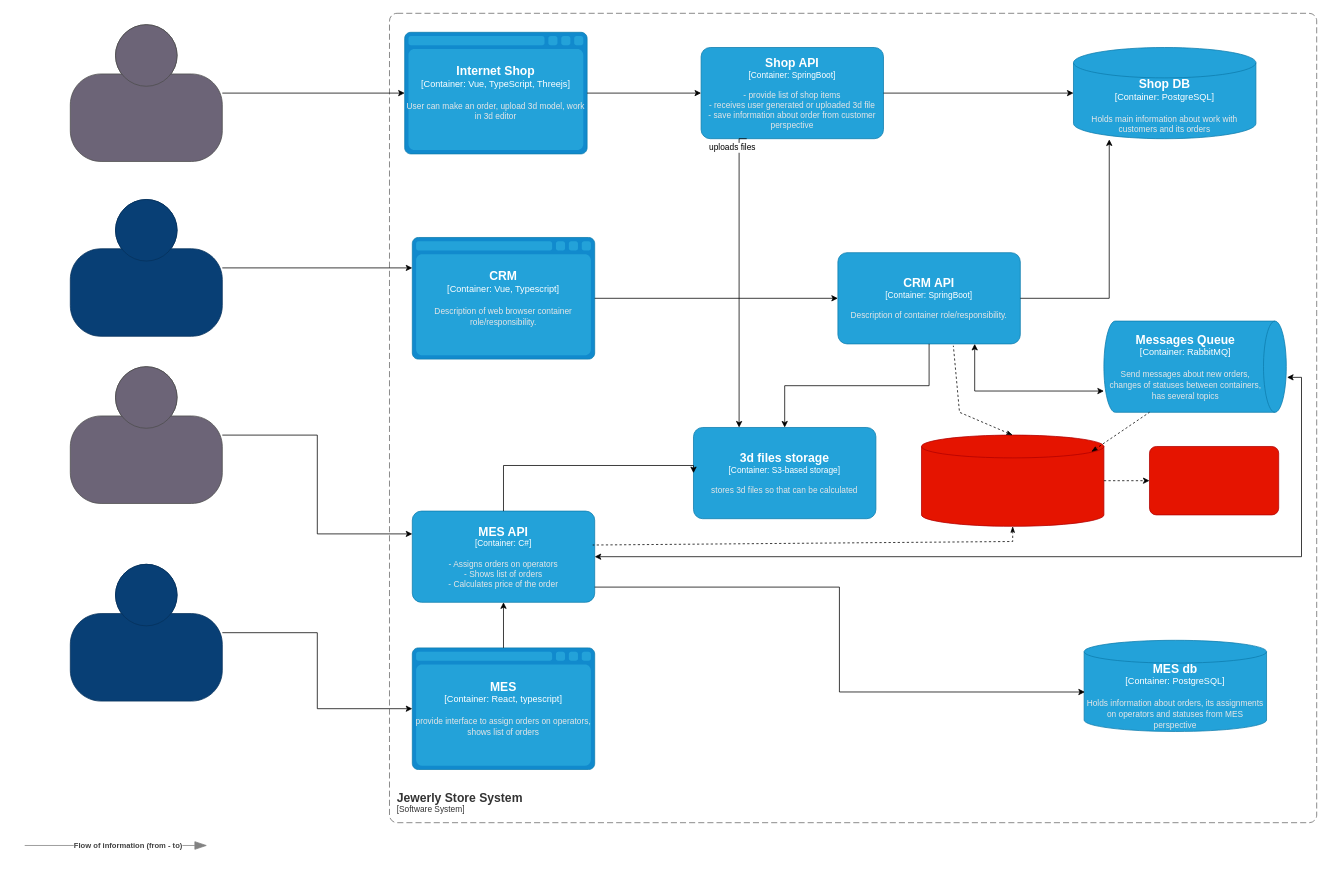
This 1330x871 diagram has some shape labels left out. Each missing label, with the box of its shape:
API user [Person] Description of external person.: (70, 366, 222, 504)
Customer [Person] Description of external person.: (70, 24, 222, 162)
Jaeger [Container: ] Description of storage type container role/responsibility.: (921, 434, 1104, 526)
Jaeger UI [Container: ] Description of container role/responsibility.: (1149, 446, 1279, 515)
Operator [Person] Takes order in work, manufactures jewerly: (70, 564, 222, 701)
Seller [Person] Operates with order, confirms manufacturing for the user: (70, 199, 222, 336)
